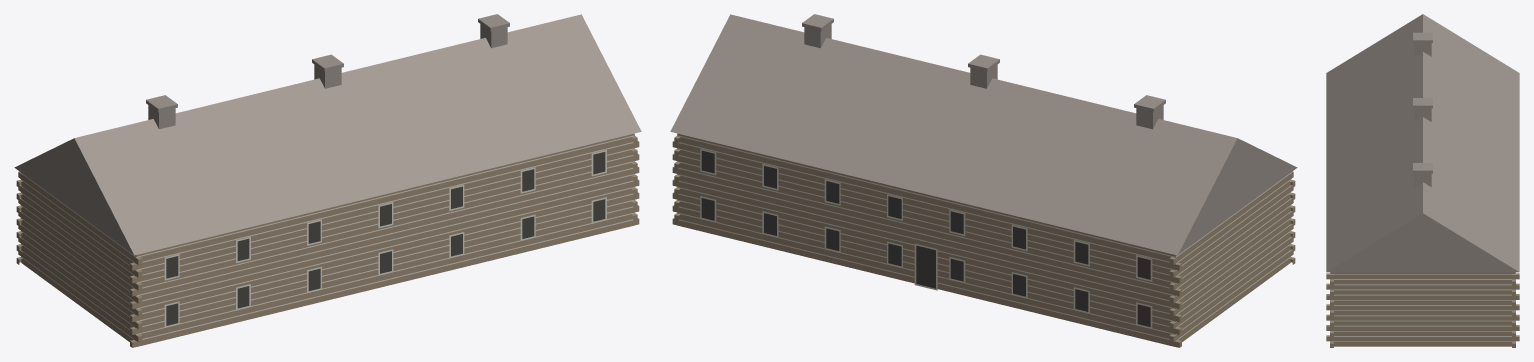
Rendered from fort_dearborn_barracks__log_1816.glb.
3 renders of one model, left to right at view 1: azimuth 30°, elevation 25°; view 2: azimuth 150°, elevation 25°; view 3: azimuth 270°, elevation 25°, orthographic. The views are drawn at different scales.
Visible parts, largest first — view 1: fort_dearborn_barracks__log_1816; view 2: fort_dearborn_barracks__log_1816; view 3: fort_dearborn_barracks__log_1816.
Part boxes in pixels (<box>): fort_dearborn_barracks__log_1816: <box>14,14,641,347</box>; fort_dearborn_barracks__log_1816: <box>670,14,1297,347</box>; fort_dearborn_barracks__log_1816: <box>1326,14,1519,347</box>.
Bounding box in the file's own units: 28.05 × 9.73 × 11.51.
